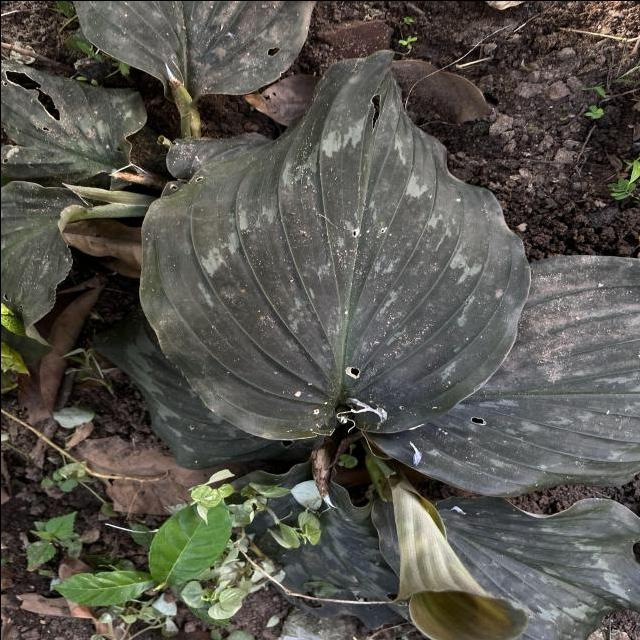Kaempferia galanga linn: (136, 45, 535, 443)
